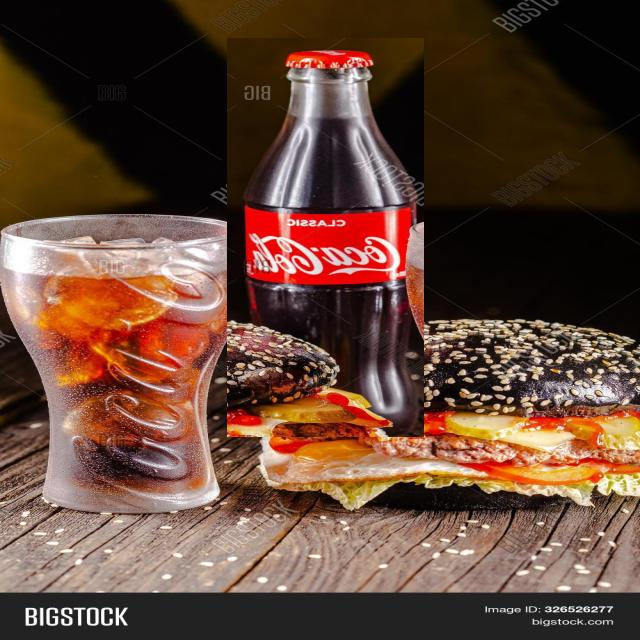coca-cola: (227, 38, 424, 437)
